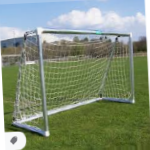goals: (9, 25, 139, 137)
